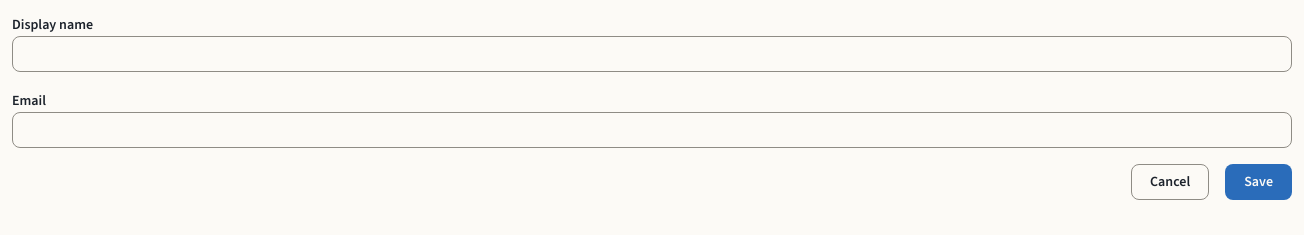
Test case: the form › validates a field after its first blur and keeps the primary action last [ADR-0027]
Click the field labelled "Display name".
click(652, 54)  # box [12,36,1292,72]
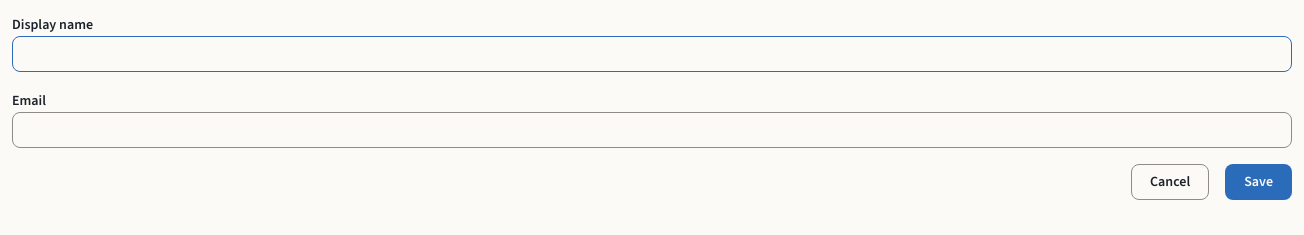
Press Tab
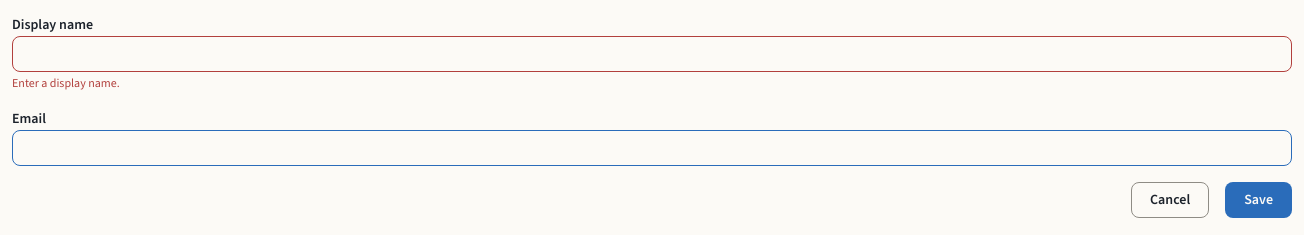
Expected: the button "Save" is shown, [1225,182,1292,218]
Expected: the text "Enter a display name." is shown, [12,75,120,91]
